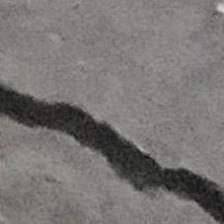Crack: (0, 40, 224, 224)
